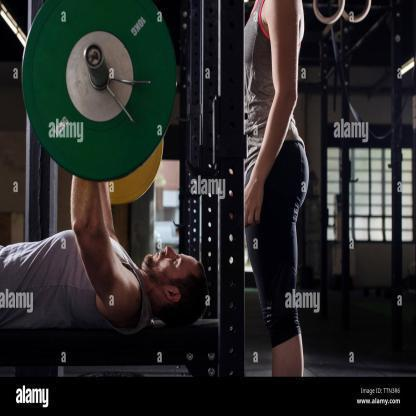Barbell: (86, 42, 105, 72)
